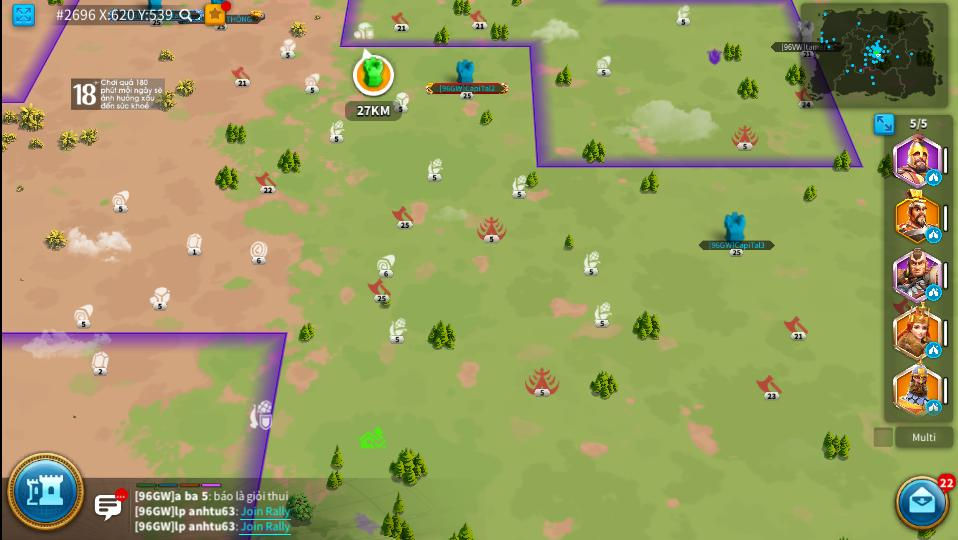gem-z-out: (92, 353, 108, 376), (187, 232, 201, 257)
march_idle: (925, 228, 942, 242), (926, 170, 940, 185), (927, 400, 941, 415), (926, 285, 940, 299), (928, 343, 940, 357)
